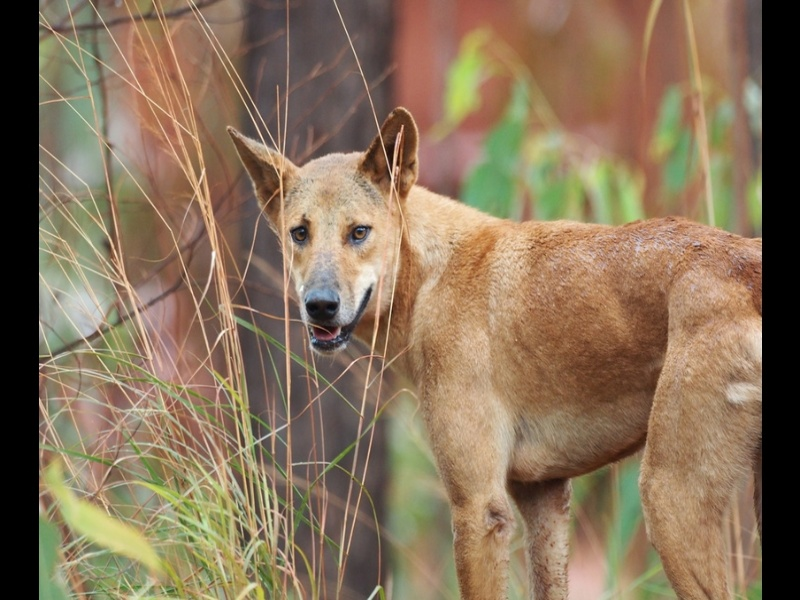dog: (215, 102, 759, 600)
